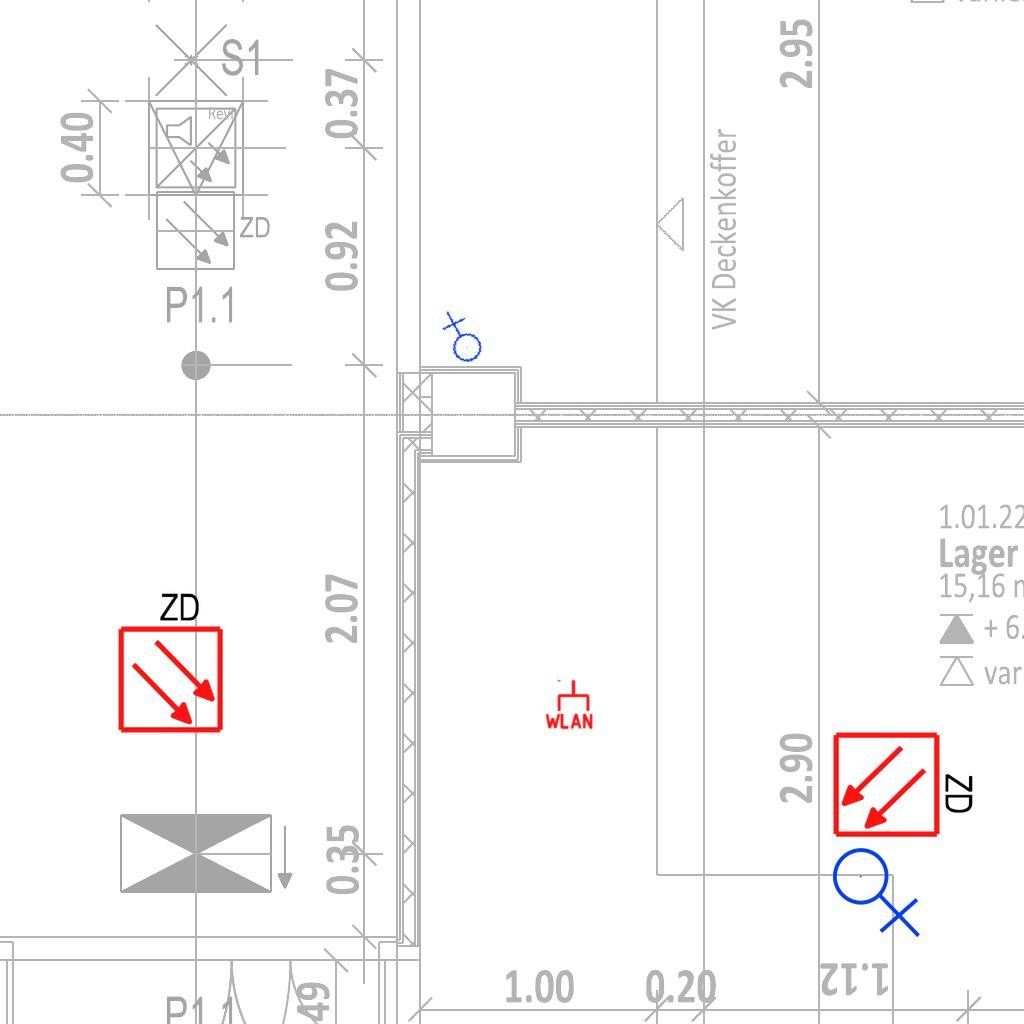Elektroanschluss_allgemein_230V_Geraeteanschlussdose_230V: (831, 839, 925, 938), (431, 309, 490, 370)
WLAN: (543, 678, 595, 730)
ZD_Melder_in_Zwischendecke_mit_Revisionsoeffnung_mind_40_x_40_cm: (112, 586, 226, 735), (831, 726, 980, 840)
